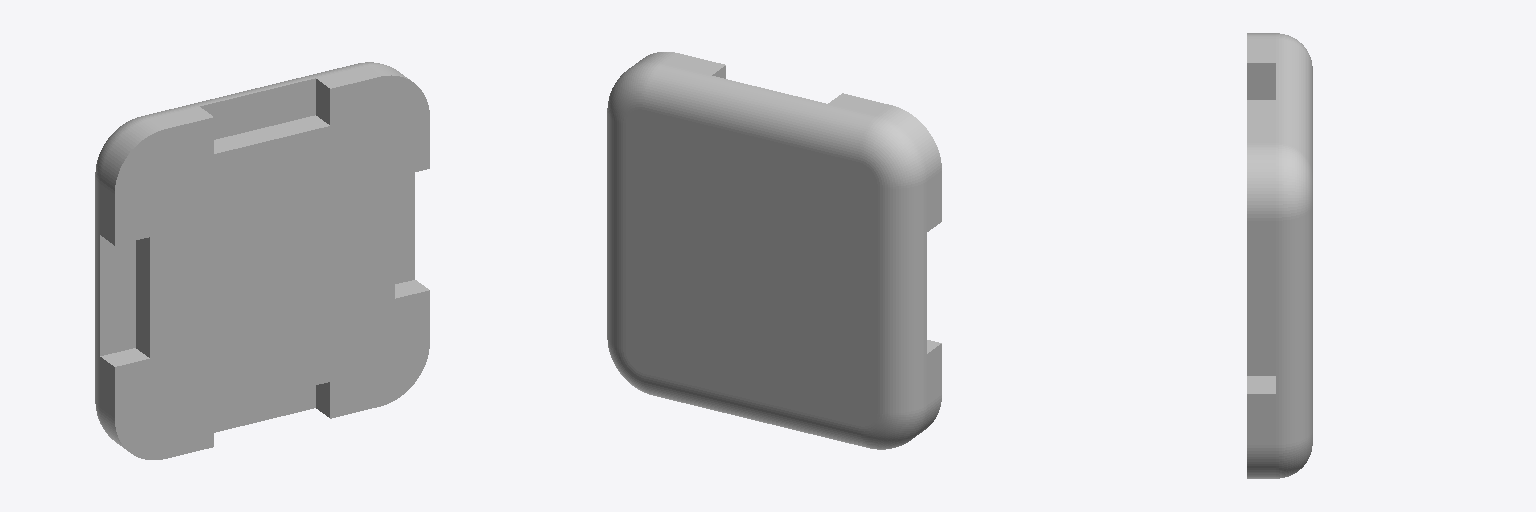
The model's file is ButtonCap.obj.
3 renders of one model, left to right at view 1: azimuth 30°, elevation 25°; view 2: azimuth 150°, elevation 25°; view 3: azimuth 270°, elevation 25°, orthographic.
Parts seen in each view (by area): view 1: Netzkörper1; view 2: Netzkörper1; view 3: Netzkörper1.
Boxes of the visible parts, box(x1,y1,x2,y2) form: Netzkörper1: box(95, 62, 429, 459); Netzkörper1: box(607, 52, 941, 449); Netzkörper1: box(1247, 33, 1312, 478).
Bounding box in the file's own units: 25 × 25 × 4.5.